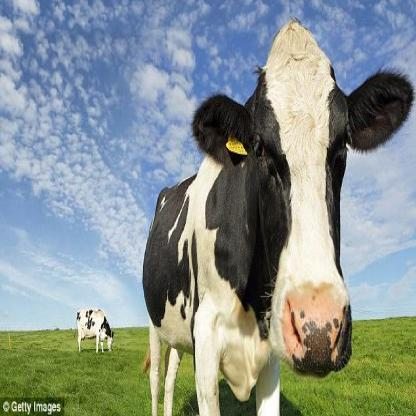cow: (143, 33, 412, 416), (76, 309, 113, 352)
